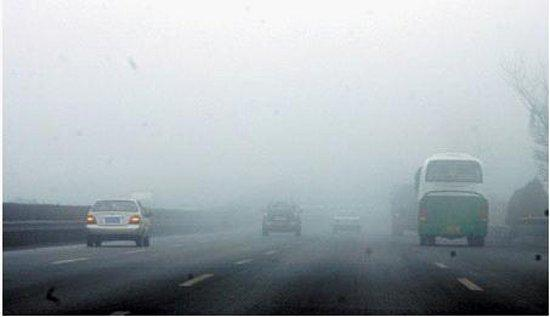bus: (414, 153, 489, 247)
car: (85, 199, 151, 248), (391, 181, 444, 236), (262, 199, 303, 236), (333, 209, 362, 235), (305, 205, 324, 222)
